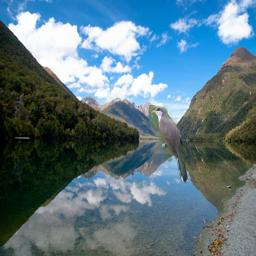Cuckoo: (149, 105, 189, 184)
